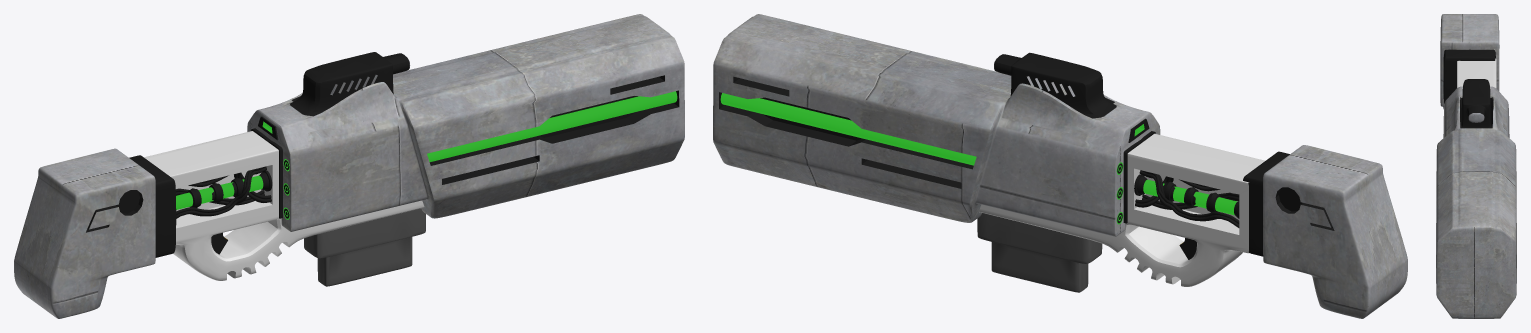
The model's file is Shotgun.fbx.
The picture shows the model from 3 angles, left to right: view 1: azimuth 30°, elevation 25°; view 2: azimuth 150°, elevation 25°; view 3: azimuth 270°, elevation 25°; orthographic projection. The views are drawn at different scales.
Visible parts, largest first — view 1: Shotgun; view 2: Shotgun; view 3: Shotgun.
Part boxes in pixels (x1,y1,x2,y2): Shotgun: [14, 14, 684, 318]; Shotgun: [713, 14, 1407, 318]; Shotgun: [1436, 14, 1516, 318].
Size of the model in its own units: 1053 by 337 by 158.
